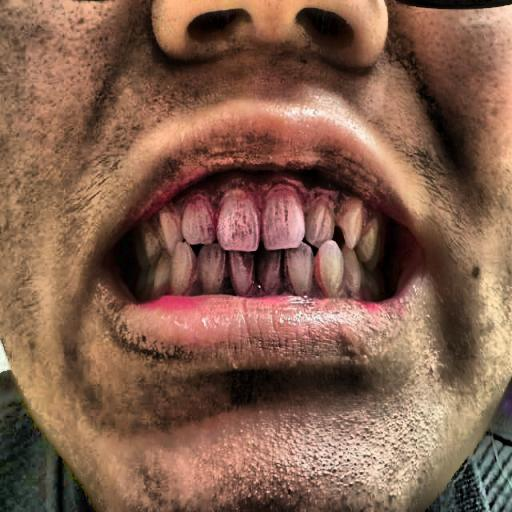Plaque: (146, 160, 407, 314)
